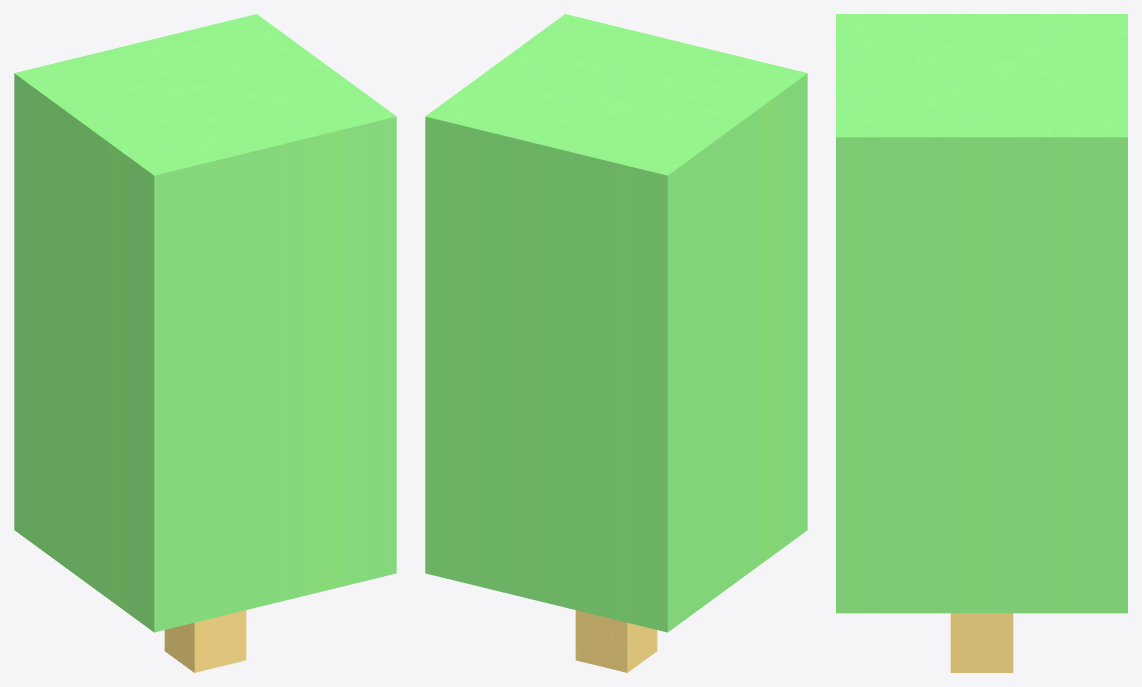
File: trees.001.glb
3 renders of one model, left to right at view 1: azimuth 30°, elevation 25°; view 2: azimuth 150°, elevation 25°; view 3: azimuth 270°, elevation 25°, orthographic. The views are drawn at different scales.
Visible parts, largest first — view 1: trees.001(Clone); view 2: trees.001(Clone); view 3: trees.001(Clone).
Part boxes in pixels (box(x1,y1,x2,y2)): trees.001(Clone): box(14, 14, 396, 672); trees.001(Clone): box(425, 14, 807, 672); trees.001(Clone): box(836, 14, 1127, 672).
Size of the model in its own units: 1.19 by 2.62 by 1.19.
1 material, 1 textured.
